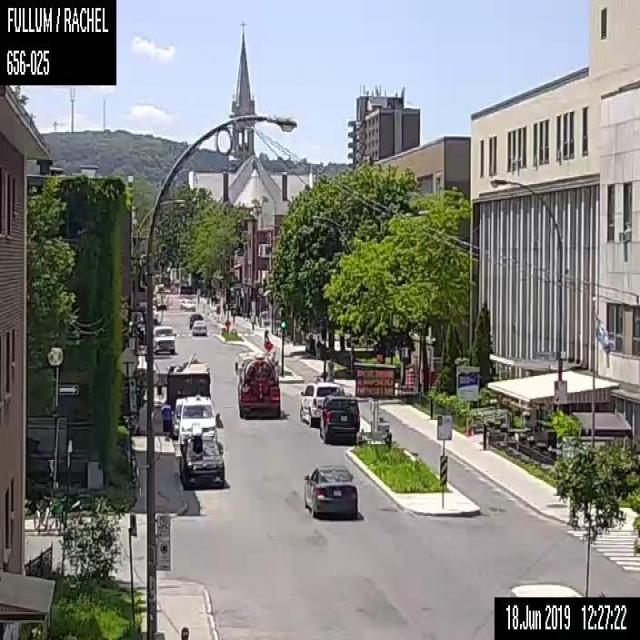construction: (354, 361, 394, 444), (263, 339, 273, 350), (408, 367, 413, 387), (405, 369, 408, 388)
pedestrian: (160, 399, 173, 440), (314, 334, 321, 358), (263, 327, 269, 344)
vehicle: (178, 421, 224, 487), (234, 354, 281, 418), (303, 463, 357, 516), (317, 393, 360, 444), (299, 381, 339, 426), (179, 394, 216, 441), (153, 325, 176, 353), (173, 398, 184, 435), (191, 320, 207, 335), (188, 312, 203, 328), (179, 298, 195, 310), (152, 304, 157, 324)
